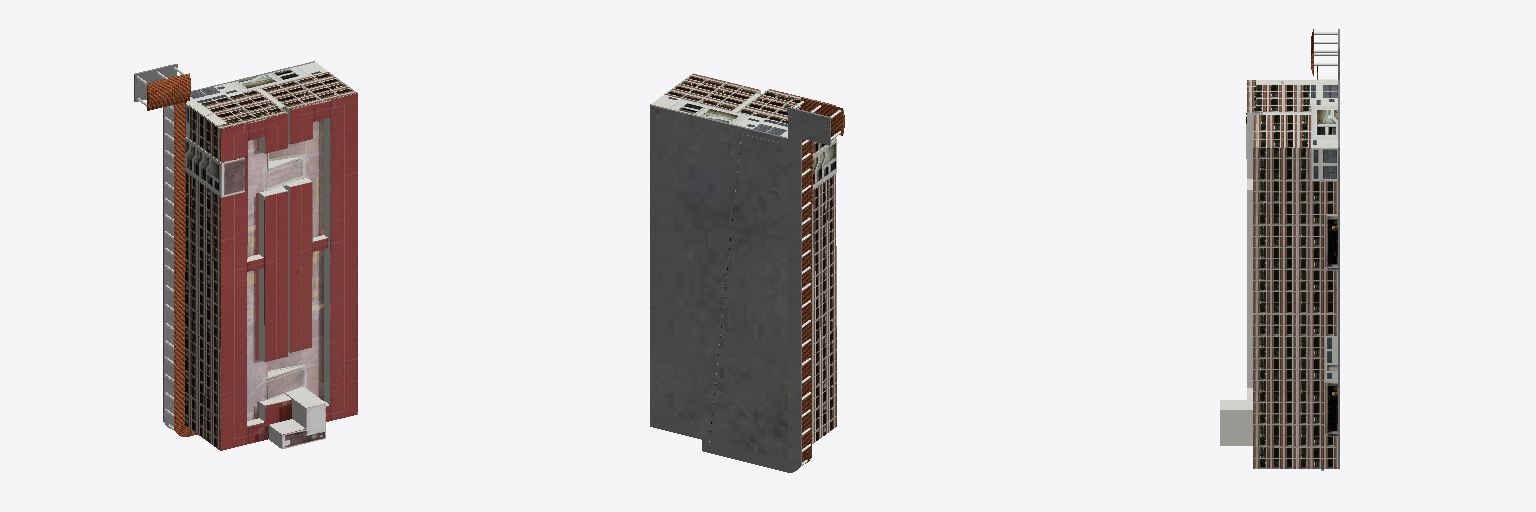
The picture shows the model from 3 angles: view 1: azimuth 30°, elevation 25°; view 2: azimuth 150°, elevation 25°; view 3: azimuth 270°, elevation 25°; orthographic projection.
Parts seen in each view (by area): view 1: polygon.844; view 2: polygon.844; view 3: polygon.844.
Boxes of the visible parts, x1,y1,x2,y2 form: polygon.844: [134, 61, 357, 450]; polygon.844: [650, 73, 844, 472]; polygon.844: [1220, 29, 1339, 470].
Bounding box in the file's own units: 44.25 × 83.59 × 25.05.
1 materials, 1 textured.